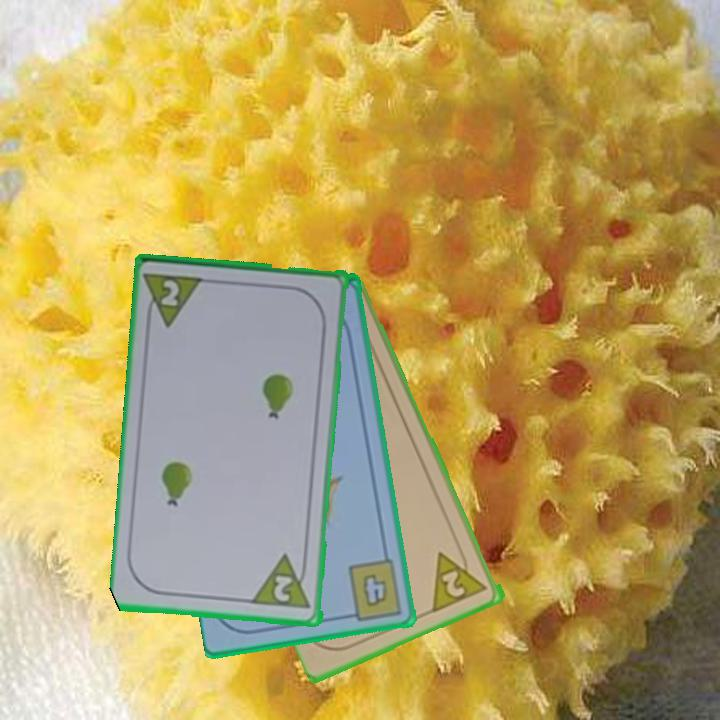2p: (429, 542, 492, 615), (142, 269, 208, 330), (250, 551, 314, 613)
4b: (342, 556, 406, 623)
